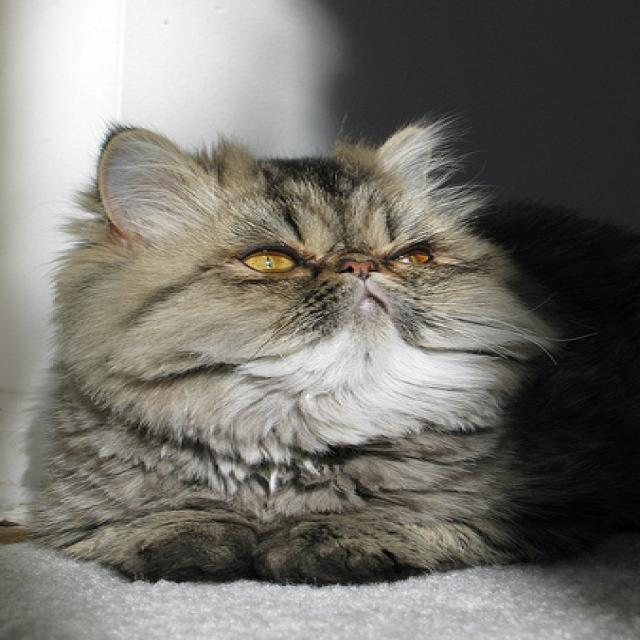Persian: (7, 116, 640, 588)
